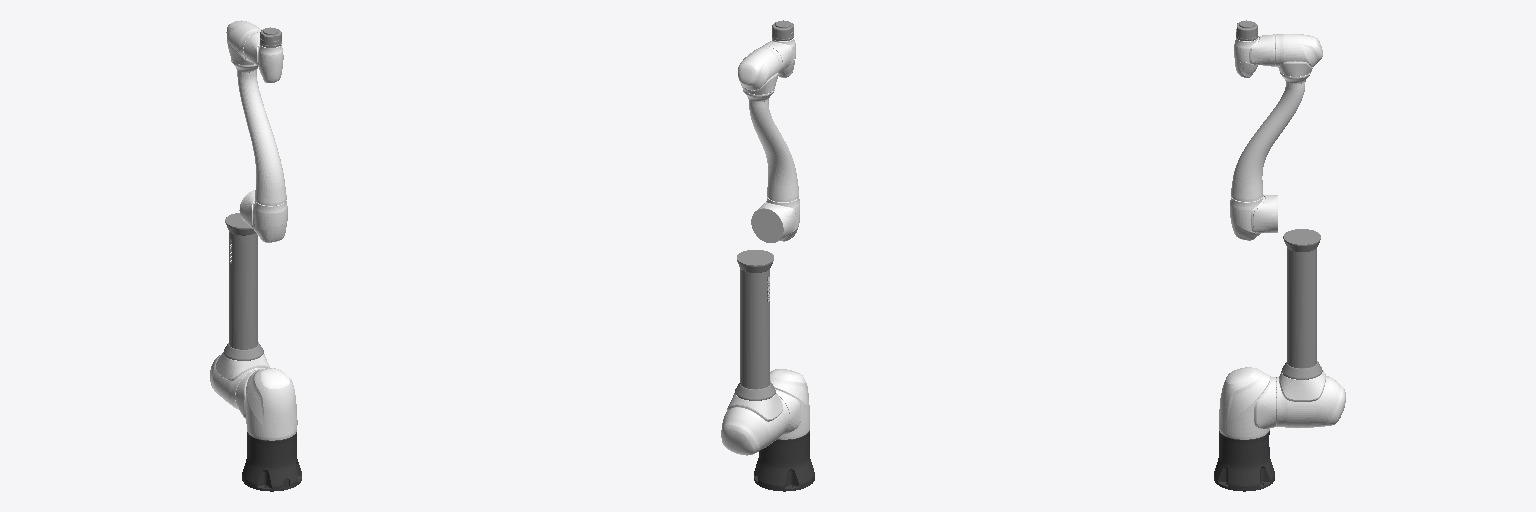
URDF robot description (h2017):
<?xml version="1.0" ?>
<robot name="h2017">
  
  <link name="base"/>
  <joint name="fixed" type="fixed">
    <parent link="base"/>
    <child link="base_0"/>
  </joint>
  
  <link name="base_0">
	<inertial>
	  <mass value="3.722"/>
	  <origin xyz="-1.2e-05 -6e-05 0.050723"/>
      <inertia ixx="0.011" ixy="-7.19e-06" ixz="-1.94e-06" iyy="0.011" iyz="4.9e-06" izz="0.014"/>
    </inertial>
	<visual>
      <origin rpy="0 0 0" xyz="0 0 0"/>
      <geometry>
        <mesh filename="package://dsr_description2/meshes/h2017_white/H2017_0_0.dae" scale="0.001 0.001 0.001"/>
      </geometry>
    </visual>
  </link>

  <joint name="joint1" type="revolute">
    <parent link="base_0"/>
    <child link="link1"/>
    <origin rpy="0 0 0" xyz="0 0 0.3443"/>
    <axis xyz="0 0 1"/>
    <limit effort="30" lower="-2.617" upper="2.617" velocity="1.571"/>
  </joint>

  <link name="link1">
	<inertial>
	  <mass value="7.446"/>
	  <origin xyz="7e-05 0.044281 0.143327"/>
      <inertia ixx="0.039" ixy="2.1e-05" ixz="-3.61e-05" iyy="0.023" iyz="-0.003" izz="0.039"/>
    </inertial>
    <visual>
      <origin rpy="0 0 0" xyz="0 0 0"/>
      <geometry>
        <mesh filename="package://dsr_description2/meshes/h2017_white/H2017_1_0.dae" scale="0.001 0.001 0.001"/>
      </geometry>
    </visual>
  </link>
  
  <joint name="joint2" type="revolute">
    <parent link="link1"/>
    <child link="link2"/>
    <origin rpy="0 -1.571 -1.571" xyz="0 0.0099 0"/>
    <axis xyz="0 0 1"/>
    <limit effort="30" lower="-2.617" upper="2.617" velocity="1.571"/>
  </joint>

  <link name="link2">
	<inertial>
	  <mass value="10.569"/>
	  <origin xyz="-1.6e-05 0.189372 0.418558"/>
      <inertia ixx="0.820" ixy="1.19e-05" ixz="-0.000263" iyy="0.82" iyz="-0.008" izz="0.031"/>
    </inertial>
    <visual>
      <origin rpy="0 0 0" xyz="0 0 0"/>
      <geometry>
        <mesh filename="package://dsr_description2/meshes/h2017_white/H2017_2_0.dae" scale="0.001 0.001 0.001"/>
      </geometry>
    </visual>
    <visual>
      <origin rpy="0 0 0" xyz="0 0 0"/>
      <geometry>     
	    	<mesh filename="package://dsr_description2/meshes/h2017_white/H2017_2_1.dae" scale="0.001 0.001 0.001"/>
      </geometry>
	  </visual>
    <visual>
      <origin rpy="0 0 0" xyz="0 0 0"/>
      <geometry>     
		<mesh filename="package://dsr_description2/meshes/h2017_white/H2017_2_2.dae" scale="0.001 0.001 0.001"/>
      </geometry>
    </visual>	
  </link>

  <joint name="joint3" type="revolute">
    <parent link="link2"/>
    <child link="link3"/>
    <origin rpy="0 0 1.571" xyz="0.845 0 0"/>
    <axis xyz="0 0 1"/>
    <limit effort="30" lower="-2.617" upper="2.617" velocity="1.571"/>
  </joint>
  
  <link name="link3">
	<inertial>
	  <mass value="3.614"/>
	  <origin xyz="6e-06 0.07917 0.781807"/>
      <inertia ixx="0.012" ixy="-4.38e-06" ixz="-1.2e-06" iyy="0.008" iyz="0.002" izz="0.011"/>
    </inertial>
    <visual>
      <origin rpy="0 0 0" xyz="0 0 0"/>
      <geometry>     
		<mesh filename="package://dsr_description2/meshes/h2017_white/H2017_3_0.dae" scale="0.001 0.001 0.001"/>
      </geometry>
    </visual>
  </link>

  <joint name="joint4" type="revolute">
    <parent link="link3"/>
    <child link="link4"/>
    <origin rpy="1.571 0 0" xyz="0 -0.734 0"/>
    <axis xyz="0 0 1"/>
    <limit effort="30" lower="-2.617" upper="2.617" velocity="1.571"/>
  </joint>
  
  <link name="link4">
	<inertial>
	  <mass value="3.785"/>
	  <origin xyz="-2.1e-05 0.12337 1.148"/>
      <inertia ixx="0.177" ixy="-2.34e-06" ixz="-4.92e-06" iyy="0.161" iyz="-0.05" izz="0.022"/>
    </inertial>
    <visual>
      <origin rpy="0 0 0" xyz="0 0 0"/>
      <geometry>     
		<mesh filename="package://dsr_description2/meshes/h2017_white/H2017_4_0.dae" scale="0.001 0.001 0.001"/>
      </geometry>
    </visual>
    <visual>
      <origin rpy="0 0 0" xyz="0 0 0"/>
      <geometry>     
		    <mesh filename="package://dsr_description2/meshes/h2017_white/H2017_4_1.dae" scale="0.001 0.001 0.001"/>
      </geometry>
    </visual>
  </link>

  <joint name="joint5" type="revolute">
    <parent link="link4"/>
    <child link="link5"/>
    <origin rpy="-1.571 0 0" xyz="0 0 0"/>
    <axis xyz="0 0 1"/>
    <limit effort="30" lower="-2.617" upper="2.617" velocity="1.571"/>
  </joint>
  
  <link name="link5">
	<inertial>
	  <mass value="2.598"/>
	  <origin xyz="-1.7e-05 0.06662 1.33103"/>
      <inertia ixx="0.007" ixy="-4.93e-06" ixz="-5.57e-06" iyy="0.004" iyz="-6.64e-05" izz="0.007"/>
    </inertial>
    <visual>
      <origin rpy="0 0 0" xyz="0 0 0"/>
      <geometry>     
		<mesh filename="package://dsr_description2/meshes/h2017_white/H2017_5_0.dae" scale="0.001 0.001 0.001"/>
      </geometry>
    </visual>
  </link>

  <joint name="joint6" type="revolute">
    <parent link="link5"/>
    <child link="link6"/>
    <origin rpy="1.571 0 0" xyz="0 -0.121 0"/>
    <axis xyz="0 0 1"/>
    <limit effort="30" lower="-2.617" upper="2.617" velocity="1.571"/>
  </joint>
  
  <link name="link6">
	<inertial>
	  <mass value="1.128"/>
	  <origin xyz="-0.000174 0.034708 1.40022"/>
      <inertia ixx="0.001" ixy="-2.79e-06" ixz="5.78e-06" iyy="0.001" iyz="-6.67e-06" izz="0.001"/>
    </inertial>
    <visual>
      <origin rpy="0 0 0" xyz="0 0 0"/>
      <geometry>     
		<mesh filename="package://dsr_description2/meshes/h2017_white/H2017_6_0.dae" scale="0.001 0.001 0.001"/>
      </geometry>
    </visual>
  </link>
  
</robot>

--- Facts derived from the render (not from the file) ---
3 views of the same robot in one strip: view 1: azimuth 30°, elevation 25°; view 2: azimuth 150°, elevation 25°; view 3: azimuth 270°, elevation 25° (orthographic).
Robot: h2017 — 8 links, 7 joints (6 revolute, 1 fixed); root link base; default pose: all joints at 0.
Links seen in each view (by area): view 1: link2, link4, link1, base_0, link3, link5; view 2: link2, link4, base_0, link1, link3, link5; view 3: link2, link4, link1, base_0, link3, link5.
Link boxes in pixels (bbox=[...]): link2: bbox=[210, 213, 269, 409]; link4: bbox=[226, 20, 286, 205]; link1: bbox=[235, 368, 297, 440]; base_0: bbox=[242, 432, 301, 491]; link3: bbox=[239, 190, 287, 242]; link5: bbox=[243, 32, 283, 82]; link2: bbox=[721, 250, 789, 455]; link4: bbox=[738, 46, 798, 201]; base_0: bbox=[754, 431, 814, 491]; link1: bbox=[770, 369, 809, 439]; link3: bbox=[751, 197, 799, 242]; link5: bbox=[762, 38, 795, 77]; link2: bbox=[1276, 229, 1345, 427]; link4: bbox=[1231, 34, 1322, 201]; link1: bbox=[1219, 367, 1275, 439]; base_0: bbox=[1214, 431, 1274, 491]; link3: bbox=[1230, 195, 1277, 240]; link5: bbox=[1234, 34, 1274, 77].
Size in the robot's own frame: 0.248 by 0.5376 by 2.04 metres.
9 mesh visuals loaded from 10 distinct referenced files (9 Collada DAE); not drawn: 1 (file found but could not be loaded).